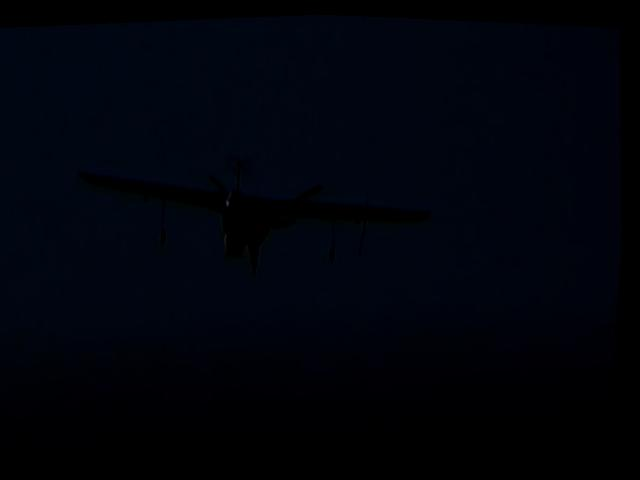iha: (64, 129, 462, 296)
